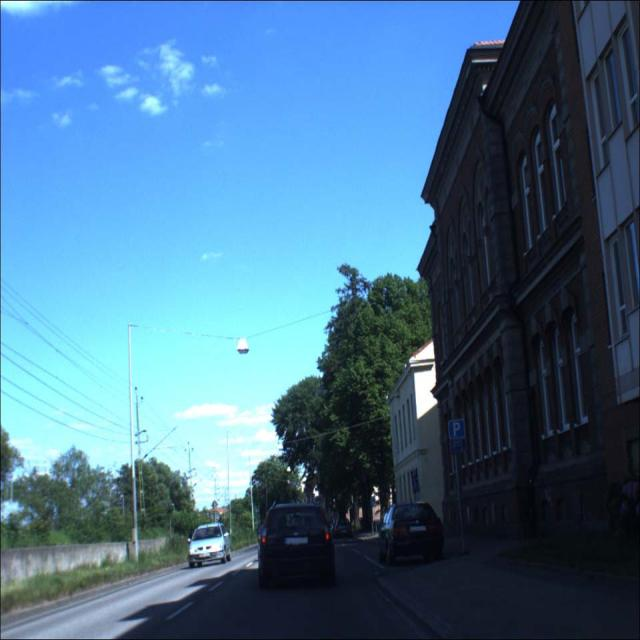park: (449, 419, 465, 439)
